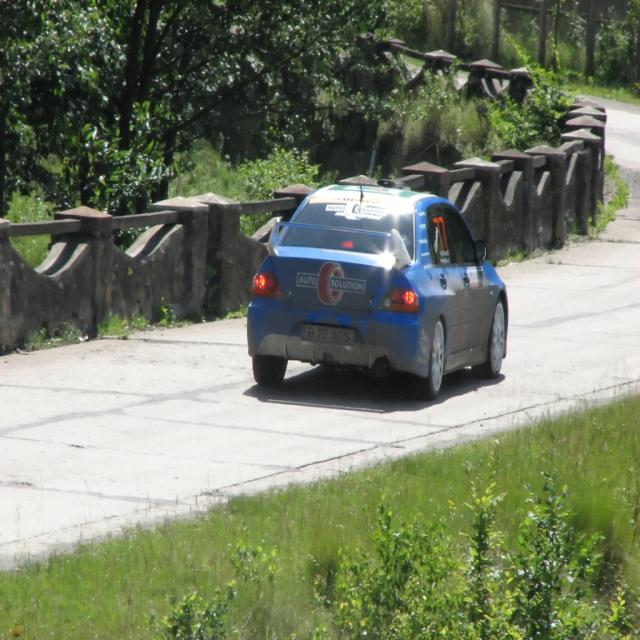car: (245, 160, 507, 401)
